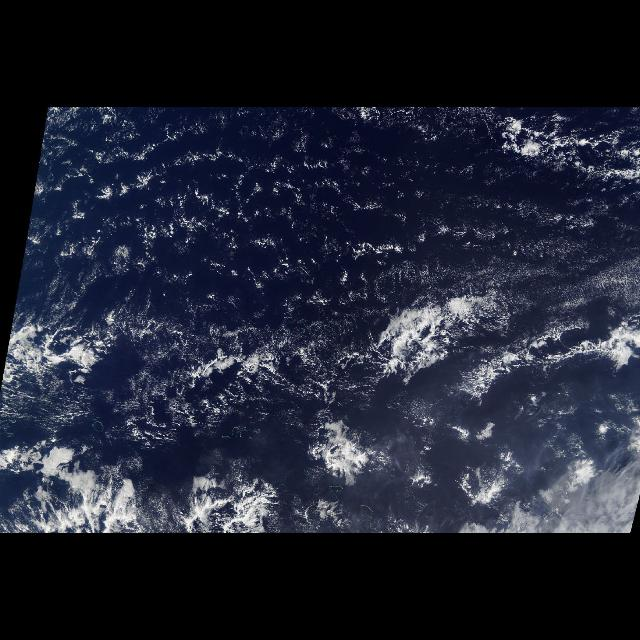Fish: (372, 283, 503, 401)
Flower: (14, 110, 630, 528)
Gravel: (65, 112, 432, 424), (460, 109, 638, 177)
Sugar: (472, 178, 640, 350)
